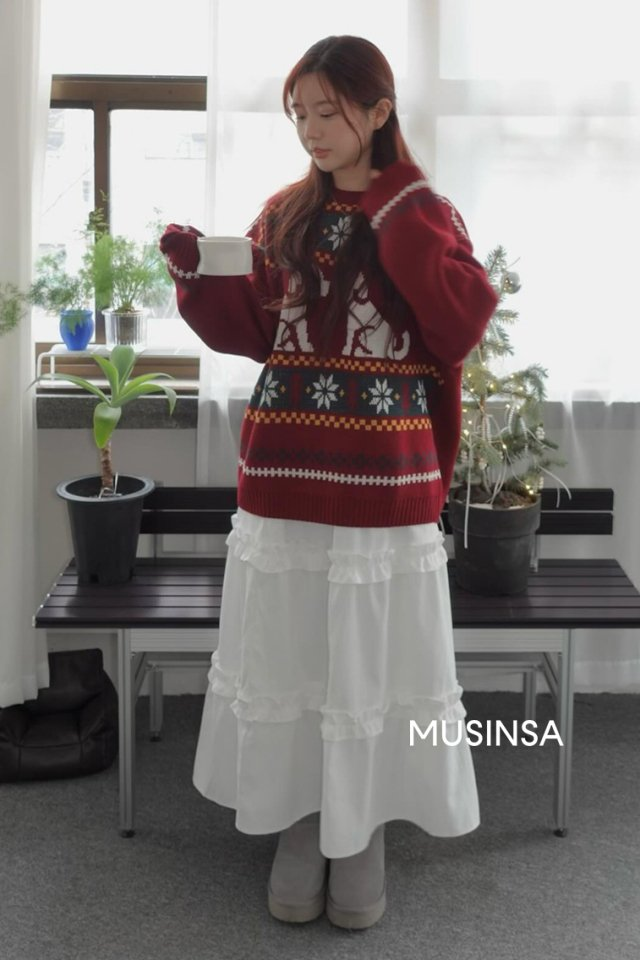Boots: (259, 810, 397, 930)
Skirt: (187, 484, 497, 860)
Top: (142, 157, 509, 529)
